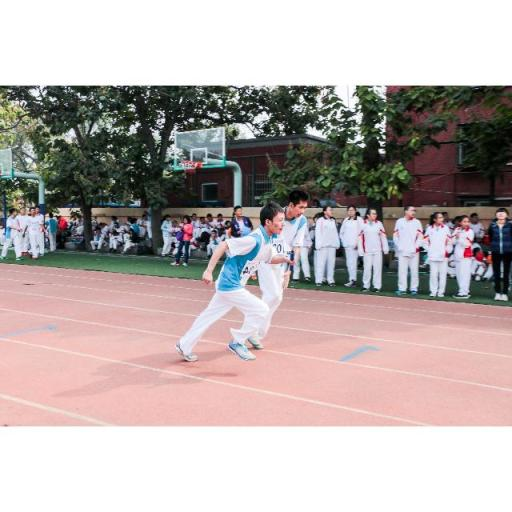Running: (161, 196, 299, 374)
